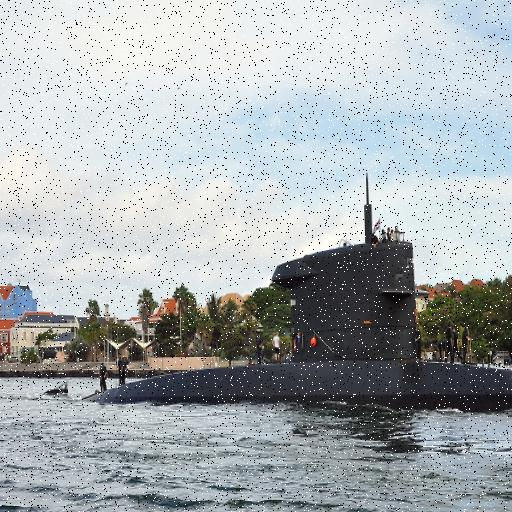submarine: (81, 177, 512, 402)
